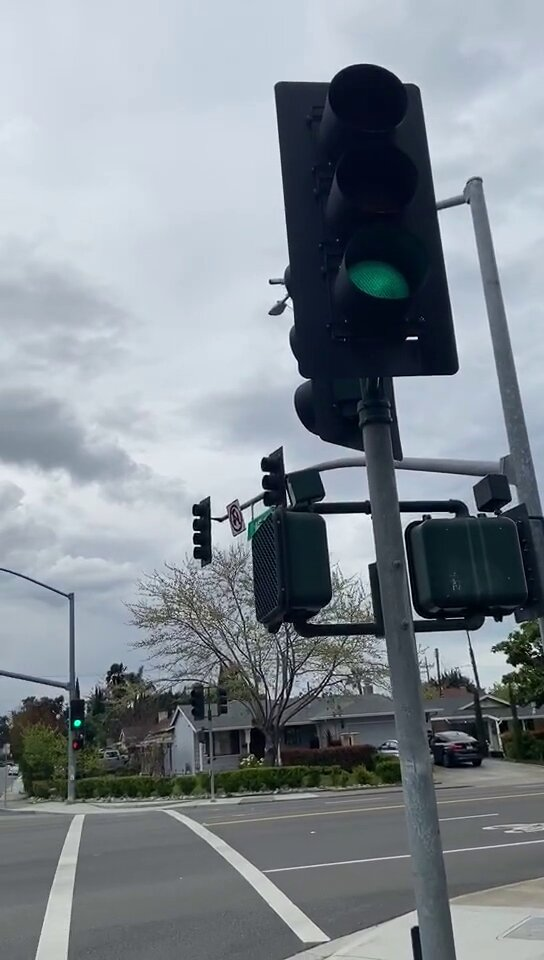green_light: (309, 87, 419, 364), (71, 700, 85, 730)
